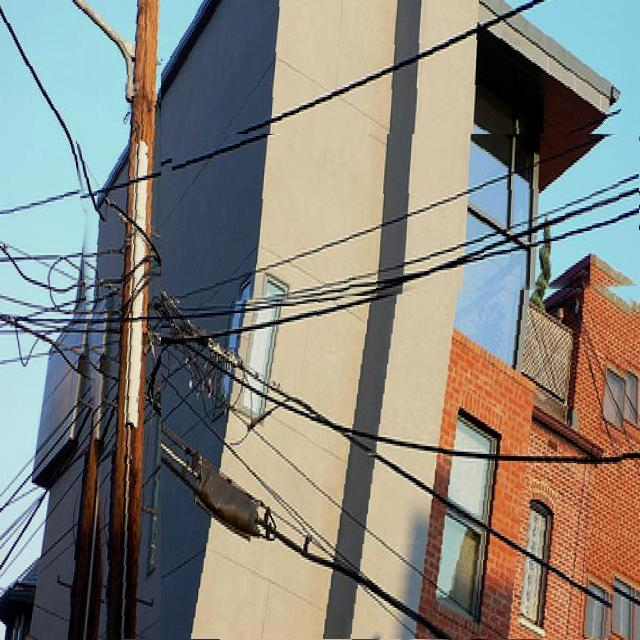pole: (98, 0, 161, 640)
wire: (120, 222, 638, 639), (5, 0, 569, 214), (174, 134, 630, 303)
